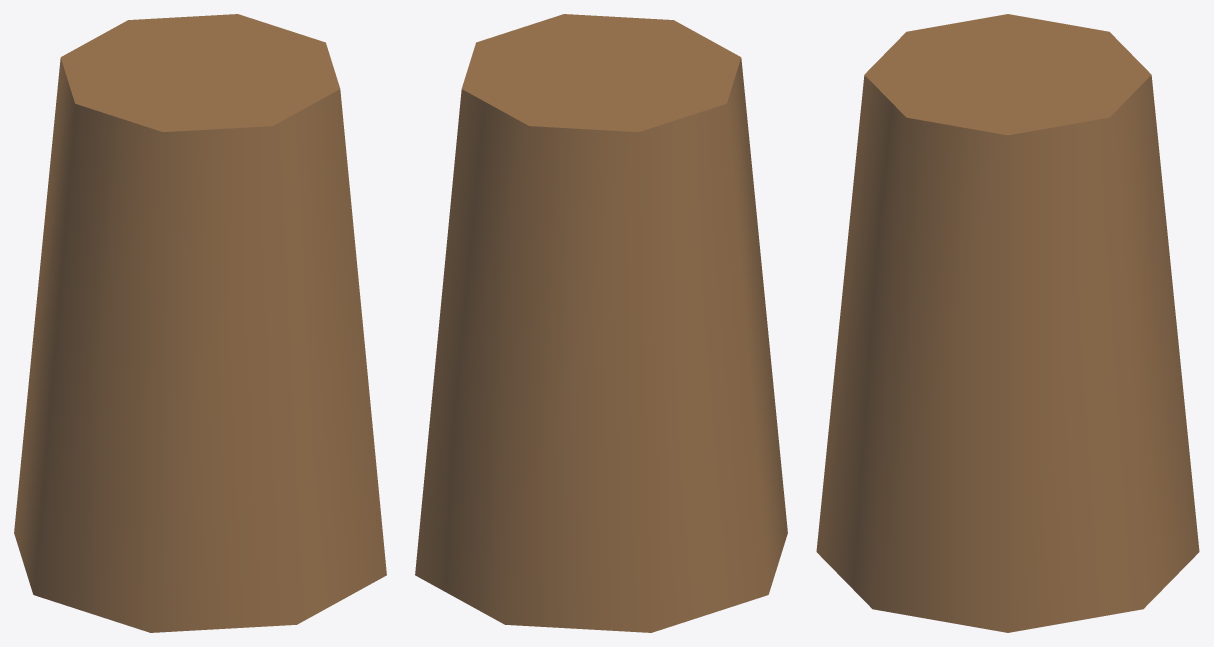
The model's file is equipment_molotov.glb.
The picture shows the model from 3 angles, left to right: view 1: azimuth 30°, elevation 25°; view 2: azimuth 150°, elevation 25°; view 3: azimuth 270°, elevation 25°; orthographic projection.
Parts seen in each view (by area): view 1: equipment_molotov__equipment_molotov; view 2: equipment_molotov__equipment_molotov; view 3: equipment_molotov__equipment_molotov.
Boxes of the visible parts, x1,y1,x2,y2 form: equipment_molotov__equipment_molotov: (14,14,386,632); equipment_molotov__equipment_molotov: (415,14,787,632); equipment_molotov__equipment_molotov: (816,14,1199,632).
Bounding box in the file's own units: 0.16 × 0.22 × 0.16.
